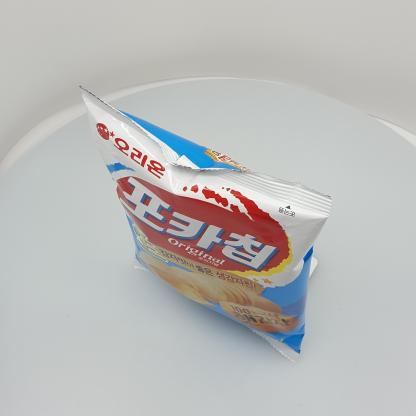Others: (68, 68, 338, 380)
